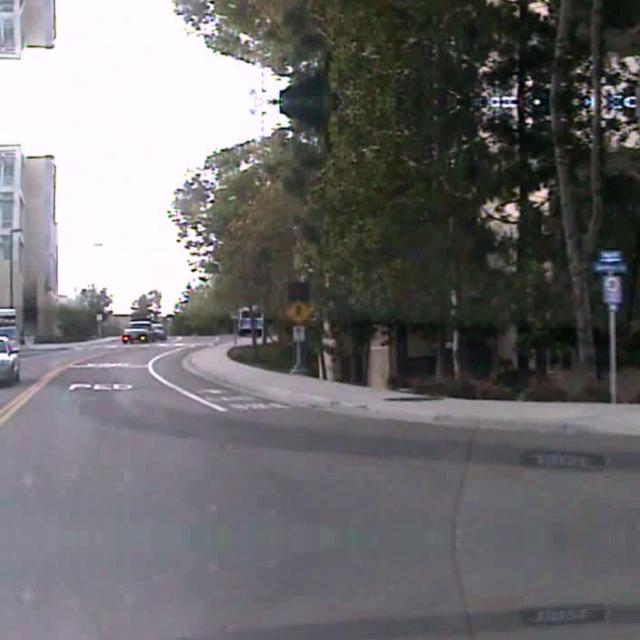pedestrianCrossing: (281, 298, 311, 324)
